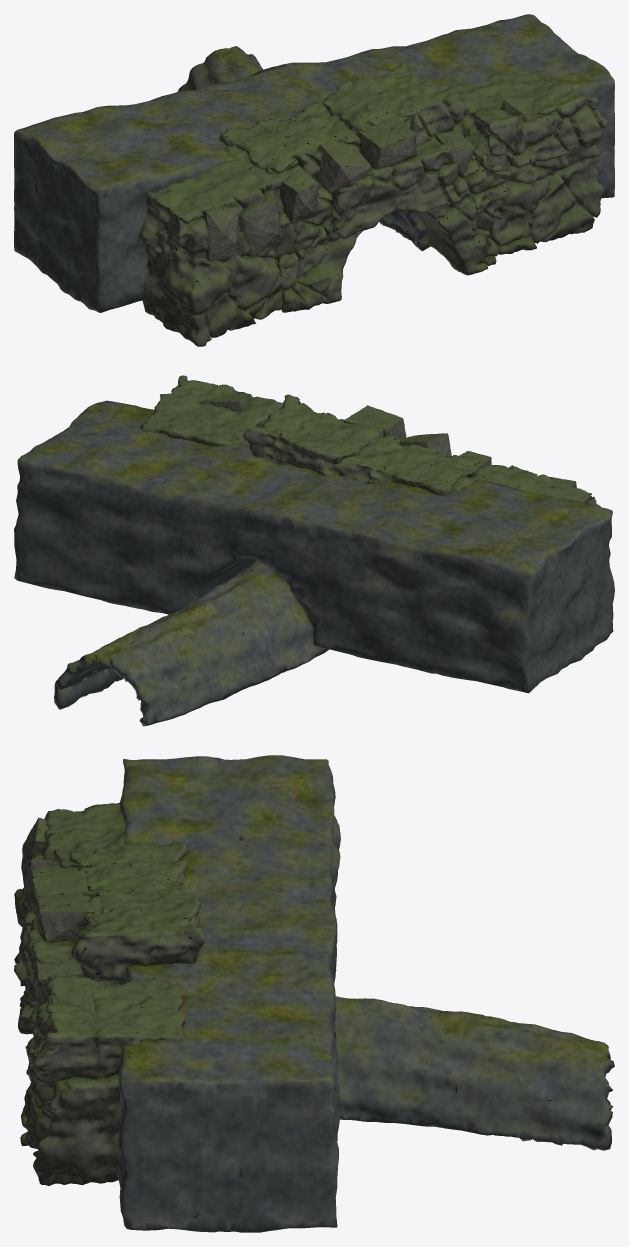
The model's file is winden-cave.glb.
3 views of the same model, one above another, from view 1: azimuth 30°, elevation 25°; view 2: azimuth 150°, elevation 25°; view 3: azimuth 270°, elevation 25° (orthographic). The views are drawn at different scales.
Parts seen in each view (by area): view 1: BlenderCave; view 2: BlenderCave; view 3: BlenderCave.
Part boxes in pixels (x1,y1,x2,y2): BlenderCave: (14, 14, 614, 346); BlenderCave: (14, 375, 614, 726); BlenderCave: (14, 755, 614, 1232).
Bounding box in the file's own units: 24.67 × 7.69 × 20.1.
Materials: 1 (1 with a texture image).
